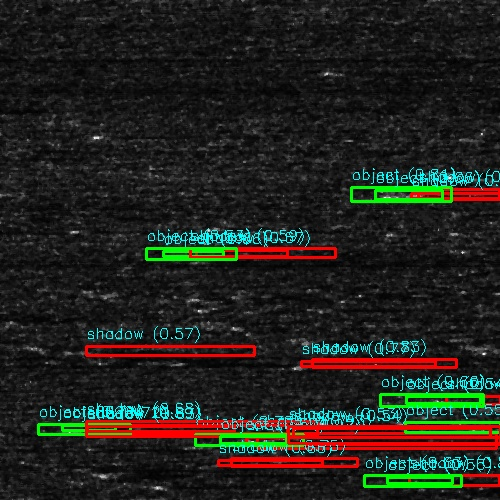rock: (161, 456, 286, 469), (345, 189, 460, 202), (268, 427, 331, 440), (214, 433, 277, 446), (356, 477, 439, 484), (160, 250, 233, 257), (430, 420, 483, 427), (447, 427, 500, 434), (323, 65, 364, 74), (0, 151, 32, 162), (51, 426, 114, 431), (404, 397, 467, 402), (89, 468, 130, 475)
shadow: (246, 433, 481, 446), (300, 427, 500, 440), (224, 456, 403, 469), (83, 426, 500, 431), (403, 189, 500, 202), (0, 151, 98, 162), (344, 65, 461, 74), (197, 250, 311, 257), (398, 477, 500, 484), (110, 468, 167, 475), (0, 104, 46, 111), (436, 397, 500, 402), (457, 420, 500, 427), (474, 427, 500, 434)
